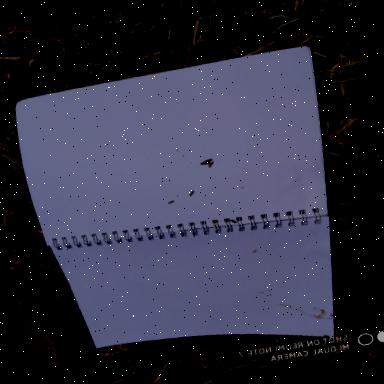pbw: (200, 156, 214, 164), (199, 160, 211, 166), (207, 160, 216, 167)
